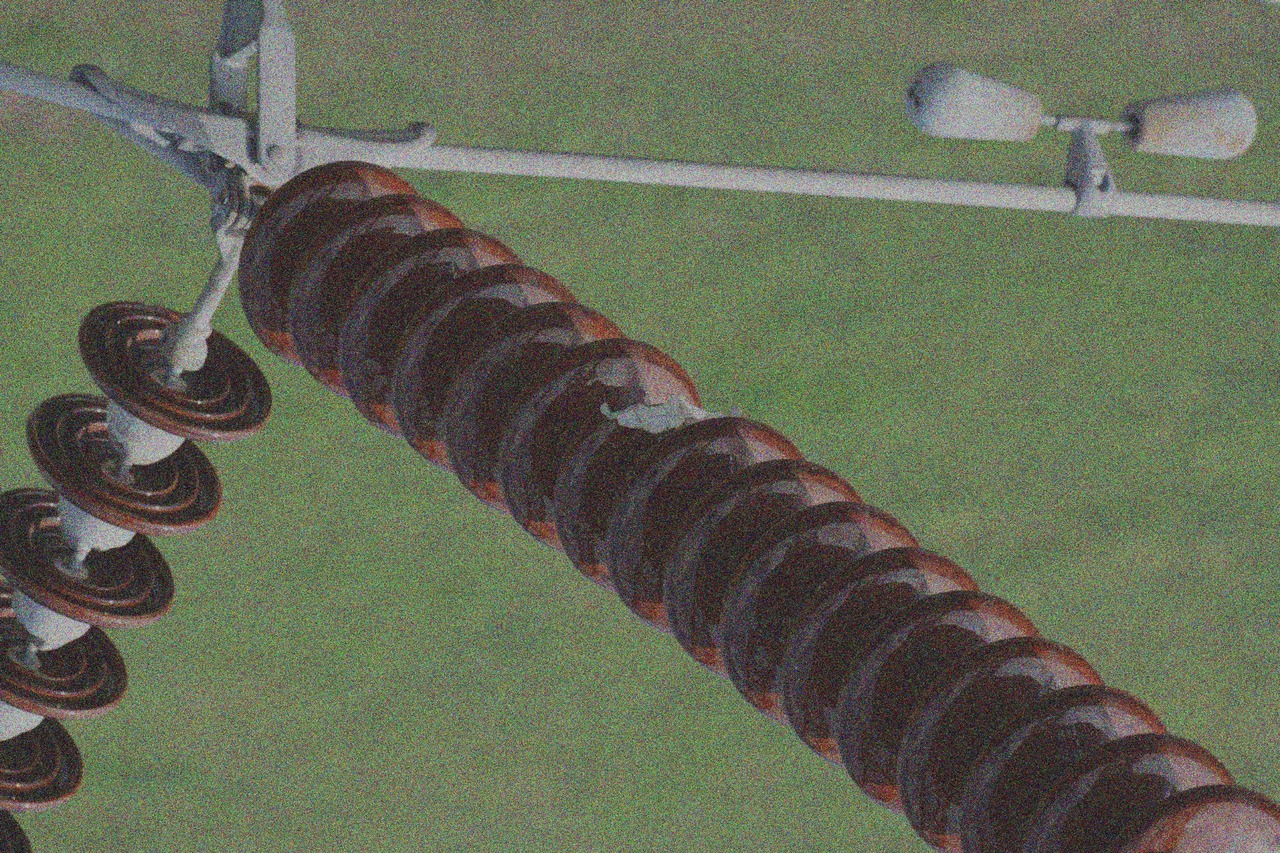Broken: (550, 388, 745, 600)
No issues: (726, 500, 919, 727), (843, 591, 1042, 811), (899, 638, 1102, 853), (785, 550, 977, 772), (605, 436, 804, 635), (445, 297, 602, 516), (77, 297, 275, 465), (24, 387, 222, 555), (390, 261, 546, 471), (964, 689, 1163, 853), (288, 193, 432, 399), (342, 225, 480, 437), (0, 486, 177, 650), (1035, 737, 1233, 853), (239, 158, 350, 356), (1118, 779, 1280, 853)
String: (236, 152, 1280, 853), (0, 291, 277, 853)
